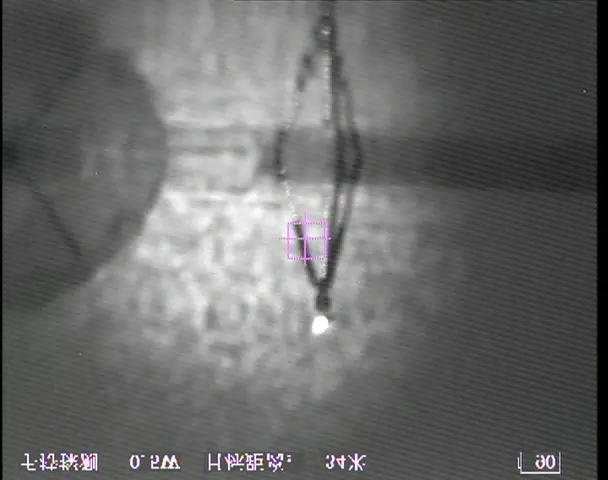my: (309, 313, 331, 334)
